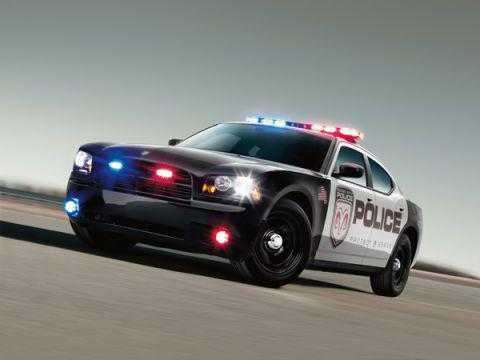Police Car: (68, 107, 444, 305)
